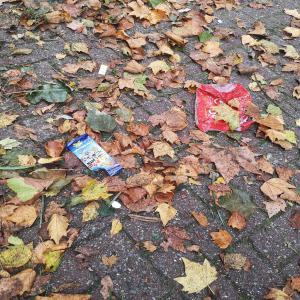Trash: (193, 81, 263, 136), (64, 133, 128, 183)
